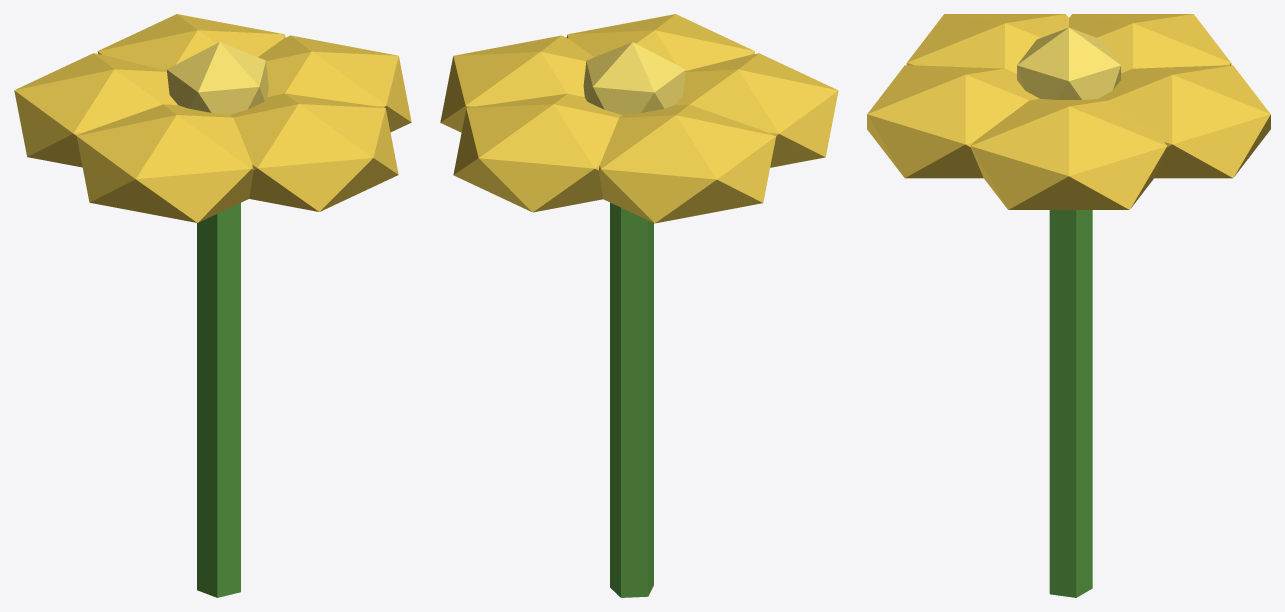
File: flower_yellow.glb
3 renders of one model, left to right at view 1: azimuth 30°, elevation 25°; view 2: azimuth 150°, elevation 25°; view 3: azimuth 270°, elevation 25°, orthographic. The views are drawn at different scales.
Parts seen in each view (by area): view 1: Cylinder; view 2: Cylinder; view 3: Cylinder.
Part boxes in pixels (x1,y1,x2,y2): Cylinder: (14, 14, 411, 597); Cylinder: (440, 14, 838, 597); Cylinder: (867, 14, 1270, 597).
Size of the model in its own units: 0.2493 by 0.3822 by 0.2493.
